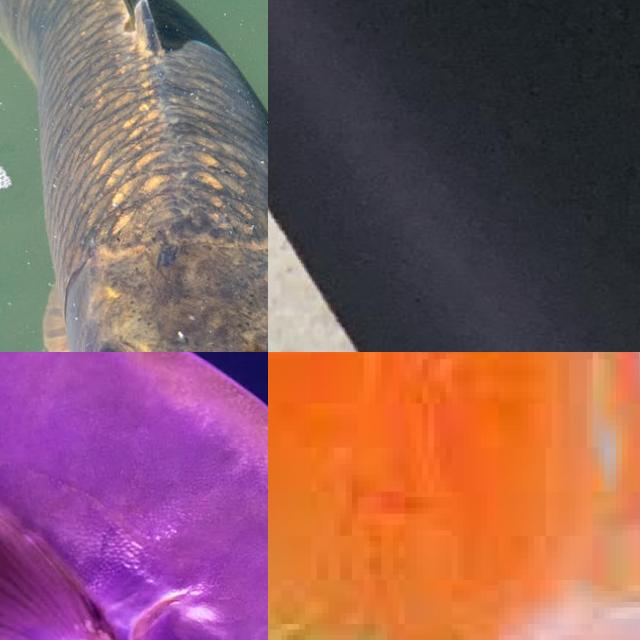fish: (268, 352, 640, 640), (0, 0, 268, 352), (0, 392, 268, 640)
